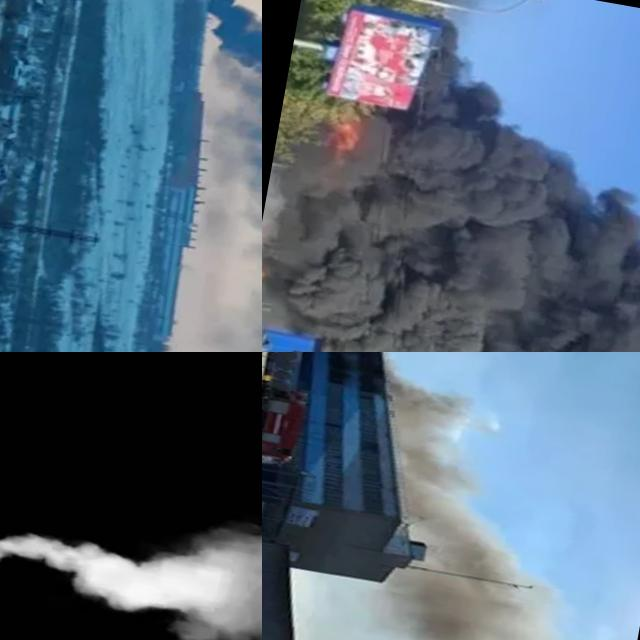smoke: (262, 5, 640, 352), (337, 380, 639, 640), (0, 452, 262, 640), (145, 0, 262, 352)
